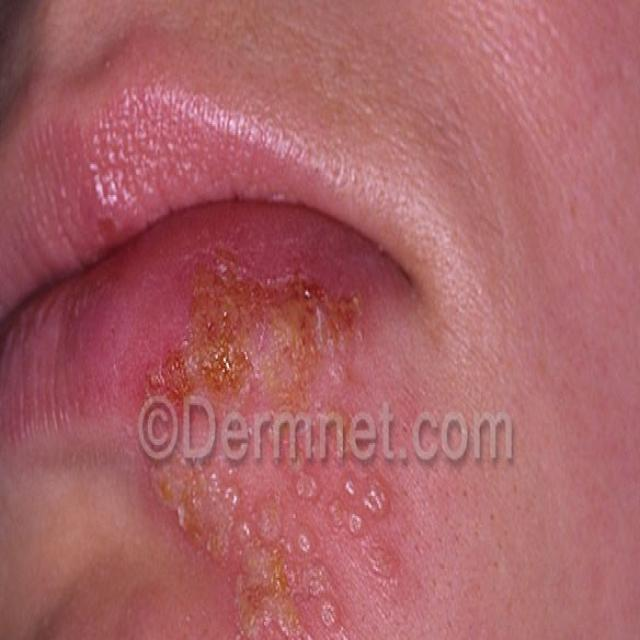Viral Infections: (132, 257, 424, 640)
